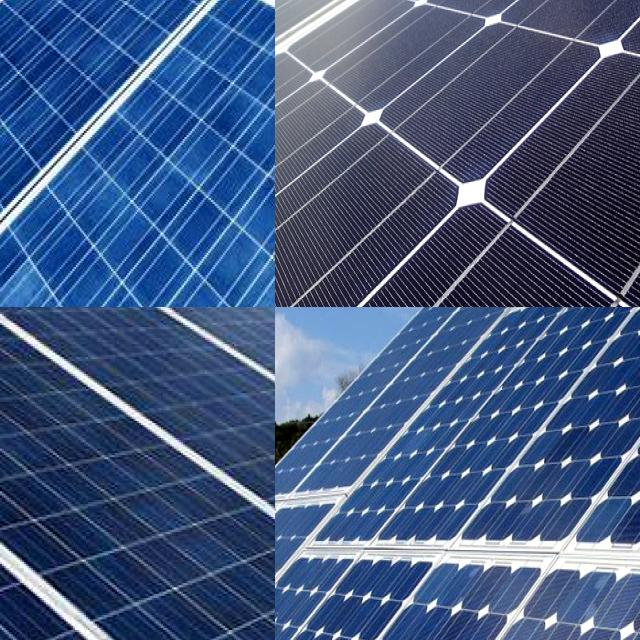crack: (0, 307, 275, 640), (0, 0, 275, 307), (0, 0, 235, 307), (275, 307, 576, 535), (438, 307, 640, 640), (103, 0, 275, 135), (0, 307, 210, 413), (0, 307, 195, 418), (11, 0, 275, 77), (0, 0, 127, 160), (0, 307, 143, 435)
dust: (337, 0, 525, 38), (275, 0, 318, 109)
